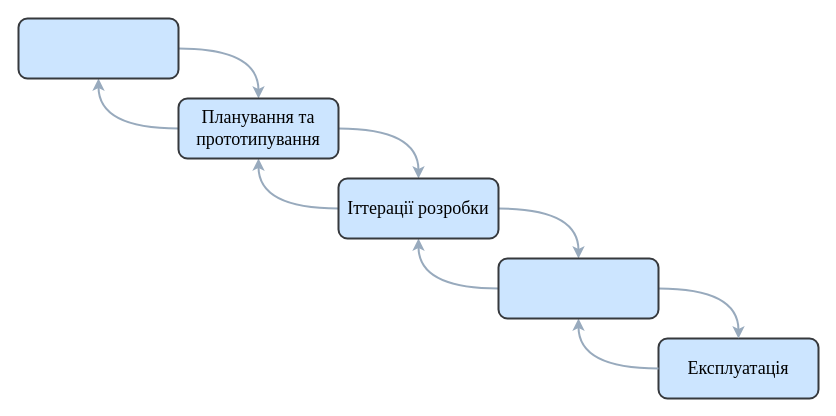
This 836x416 diagram has some shape labels left out. Each missing label, with the centre of its shape:
"Концепція та аналіз" goes at (98,48).
"Тестування та вдосконалення" goes at (578,288).
